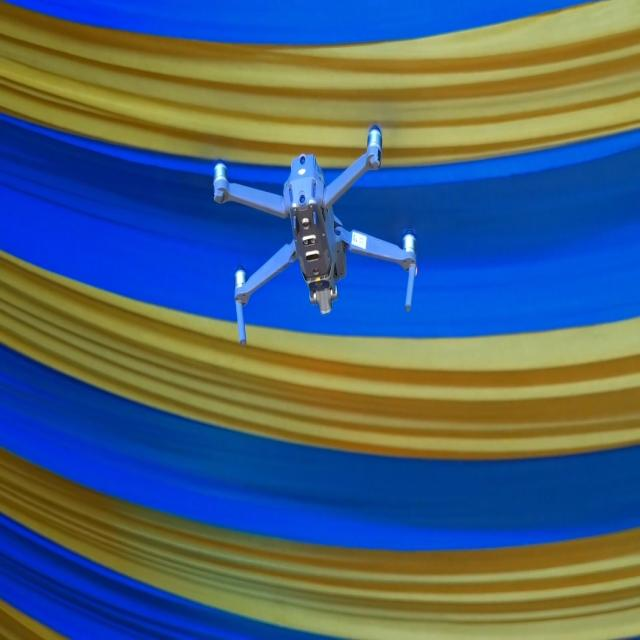Drone: (212, 125, 416, 345)
